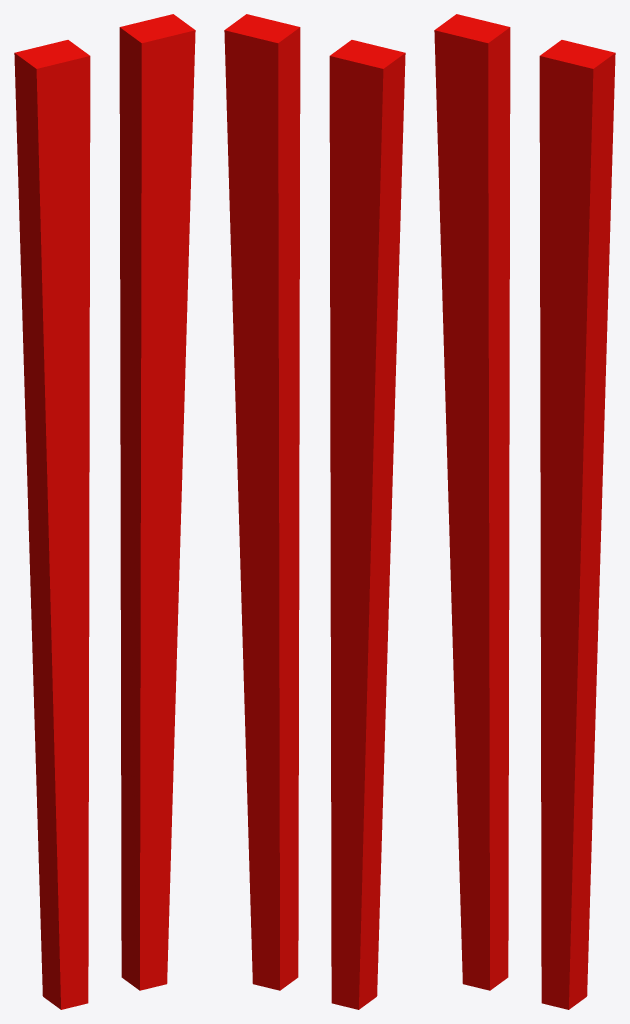
The model's file is chopsticks.fbx.
The picture shows the model from 3 angles, left to right: view 1: azimuth 30°, elevation 25°; view 2: azimuth 150°, elevation 25°; view 3: azimuth 330°, elevation 25°; orthographic projection.
Parts seen in each view (by area): view 1: chopstick; view 2: chopstick; view 3: chopstick.
Part boxes in pixels (bbox=[...]): chopstick: bbox=[14, 14, 195, 1009]; chopstick: bbox=[224, 14, 405, 1009]; chopstick: bbox=[434, 14, 615, 1009].
Bounding box in the file's own units: 72.8 × 415 × 17.56.
